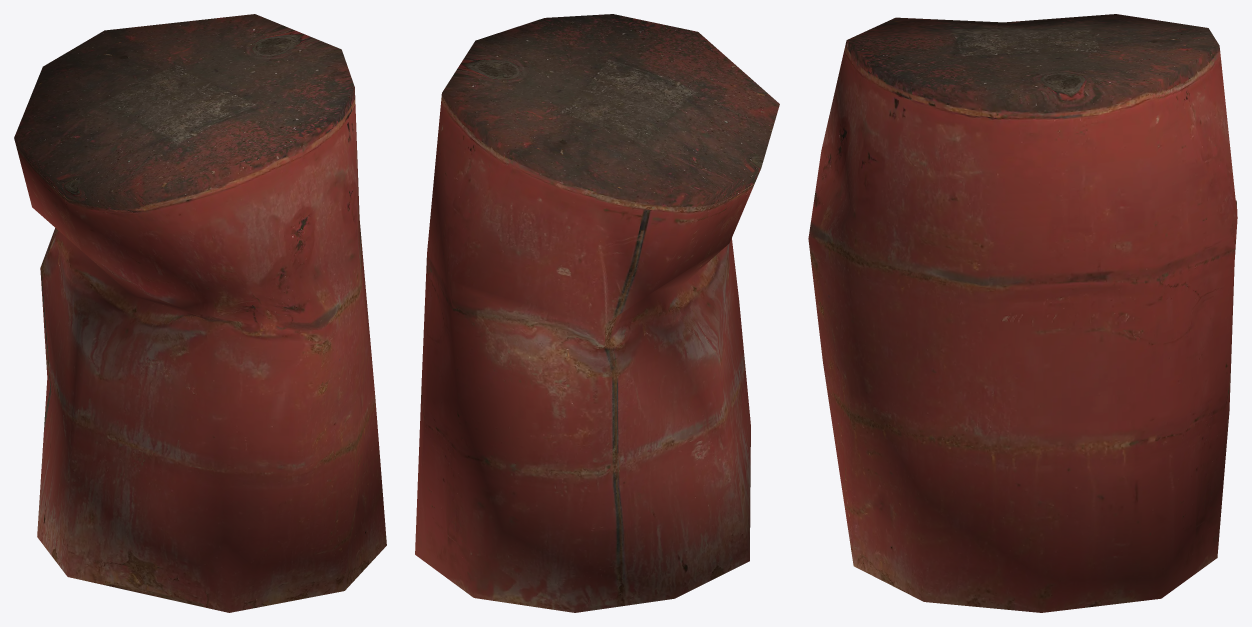
3 renders of one model, left to right at view 1: azimuth 30°, elevation 25°; view 2: azimuth 150°, elevation 25°; view 3: azimuth 270°, elevation 25°, orthographic. The views are drawn at different scales.
Parts seen in each view (by area): view 1: Aset_metal_M_tewscfuda_LOD5; view 2: Aset_metal_M_tewscfuda_LOD5; view 3: Aset_metal_M_tewscfuda_LOD5.
Part boxes in pixels (<box>): Aset_metal_M_tewscfuda_LOD5: <box>14,14,386,612</box>; Aset_metal_M_tewscfuda_LOD5: <box>415,14,779,612</box>; Aset_metal_M_tewscfuda_LOD5: <box>808,14,1237,612</box>.
Bounding box in the file's own units: 0.62 × 0.8933 × 0.6892.
Materials: 1 (1 with a texture image).
